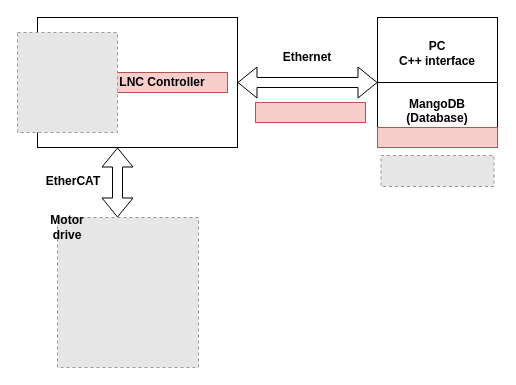
This 516x385 diagram has some shape labels left out. Grey dashed boxes stand in for pictures. Here are the shapes that lost their labels. From the top down, the centre of each, then its label:
At point 310,112: "Wired via LwIP".
At point 437,137: "NoSQL".
